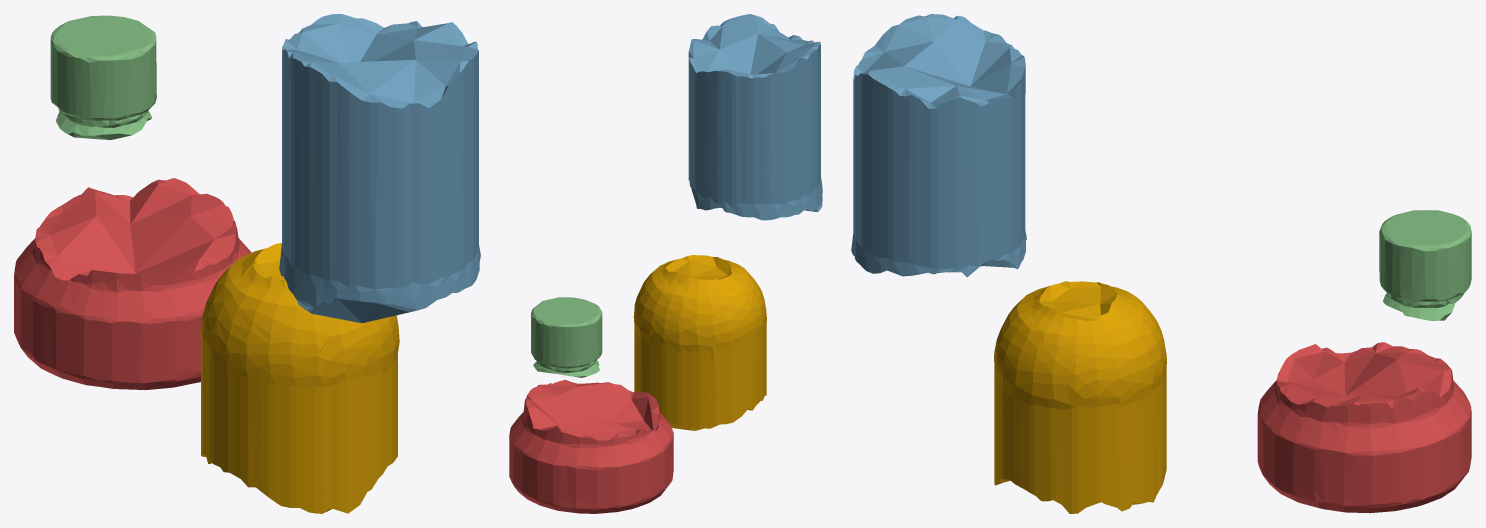
The model's file is mode_3_4pcs_transformed.glb.
The picture shows the model from 3 angles, left to right: view 1: azimuth 30°, elevation 25°; view 2: azimuth 150°, elevation 25°; view 3: azimuth 270°, elevation 25°; orthographic projection. The views are drawn at different scales.
Visible parts, largest first — view 1: piece_2.obj, piece_0.obj, piece_1.obj, piece_3.obj; view 2: piece_2.obj, piece_0.obj, piece_1.obj, piece_3.obj; view 3: piece_2.obj, piece_0.obj, piece_1.obj, piece_3.obj.
Boxes of the visible parts, <box> form: piece_2.obj: <box>279,14,480,323</box>; piece_0.obj: <box>200,243,399,513</box>; piece_1.obj: <box>14,178,251,390</box>; piece_3.obj: <box>50,15,156,140</box>; piece_2.obj: <box>688,14,822,220</box>; piece_0.obj: <box>633,255,766,430</box>; piece_1.obj: <box>509,379,673,513</box>; piece_3.obj: <box>531,297,602,377</box>; piece_2.obj: <box>851,14,1026,277</box>; piece_0.obj: <box>994,281,1166,513</box>; piece_1.obj: <box>1257,342,1471,513</box>; piece_3.obj: <box>1379,210,1471,320</box>.
Bounding box in the file's own units: 0.3732 × 0.8584 × 1.08.
